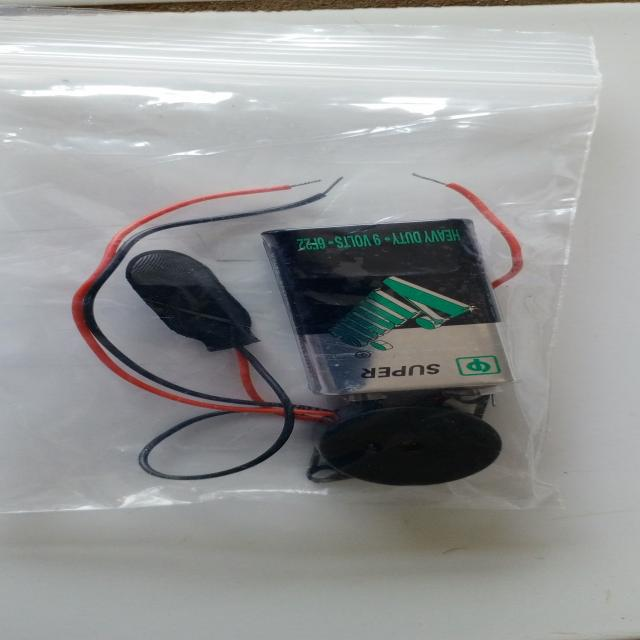Dry Cell: (69, 177, 564, 488)
